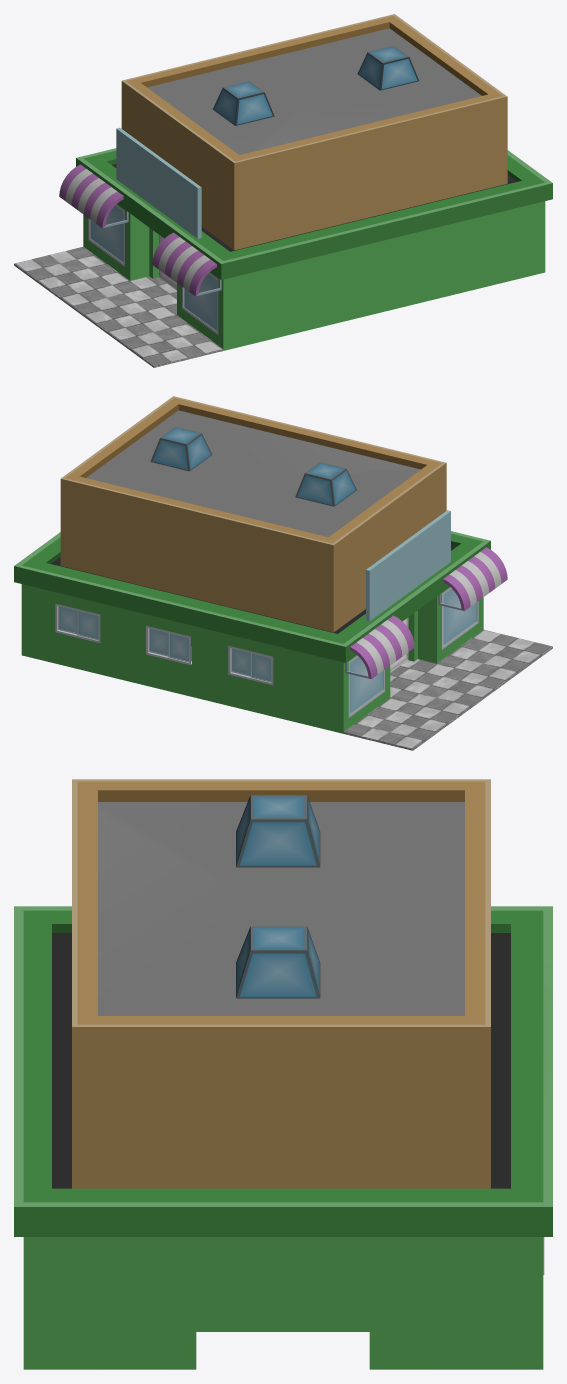
File: Veterinaria.FBX
3 renders of one model, top to bottom at view 1: azimuth 30°, elevation 25°; view 2: azimuth 150°, elevation 25°; view 3: azimuth 270°, elevation 25°, orthographic. The views are drawn at different scales.
Parts seen in each view (by area): view 1: Modisteria002, Ventana002; view 2: Modisteria002, Ventana002; view 3: Modisteria002.
Boxes of the visible parts, x1=… form: Modisteria002: x1=14, y1=14, x2=552, y2=367; Ventana002: x1=88, y1=204, x2=218, y2=334; Modisteria002: x1=14, y1=396, x2=552, y2=750; Ventana002: x1=55, y1=587, x2=478, y2=717; Modisteria002: x1=14, y1=779, x2=552, y2=1369.
Bounding box in the file's own units: 1732 × 1098 × 790.
